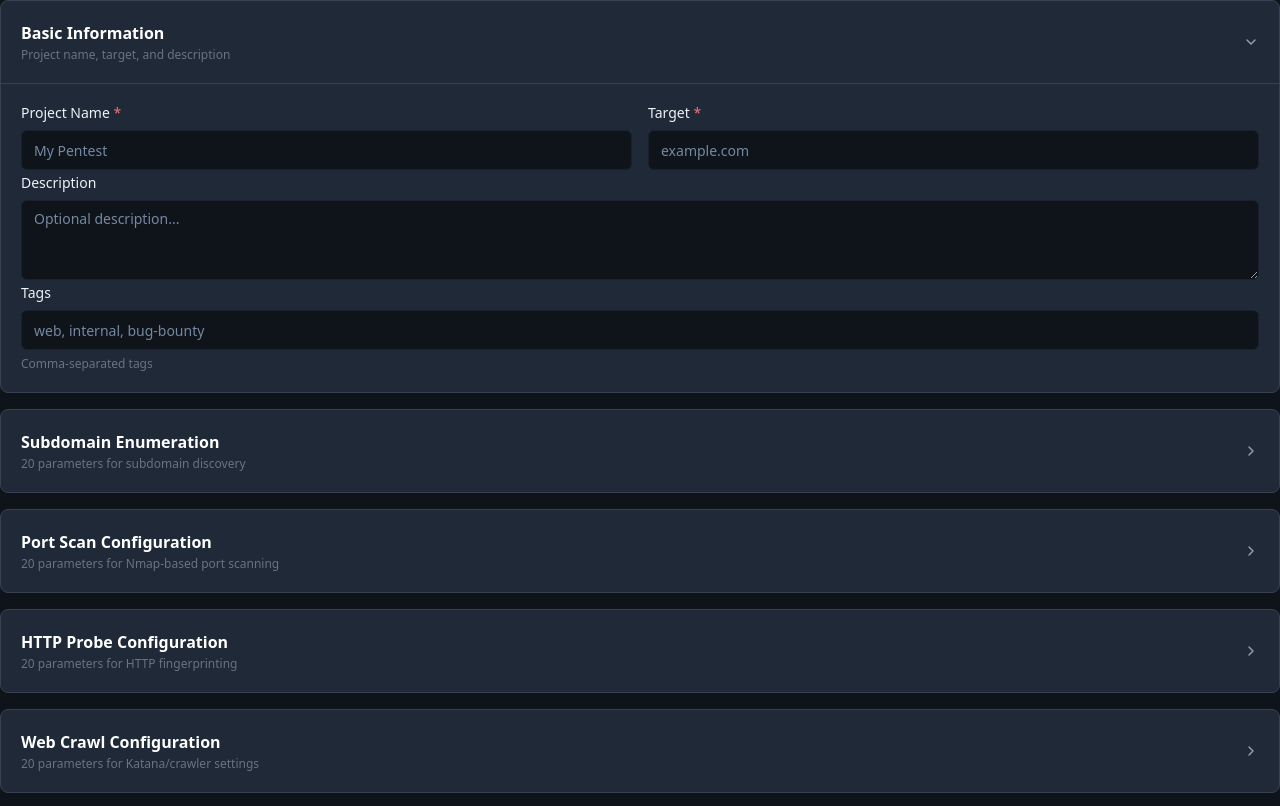
Scenario: AdvancedProjectForm › accordion sections expand on click
Click the button "Subdomain Enumeration 20 parameters for subdomain discovery" at x=120, y=442, box [1, 410, 1279, 492]
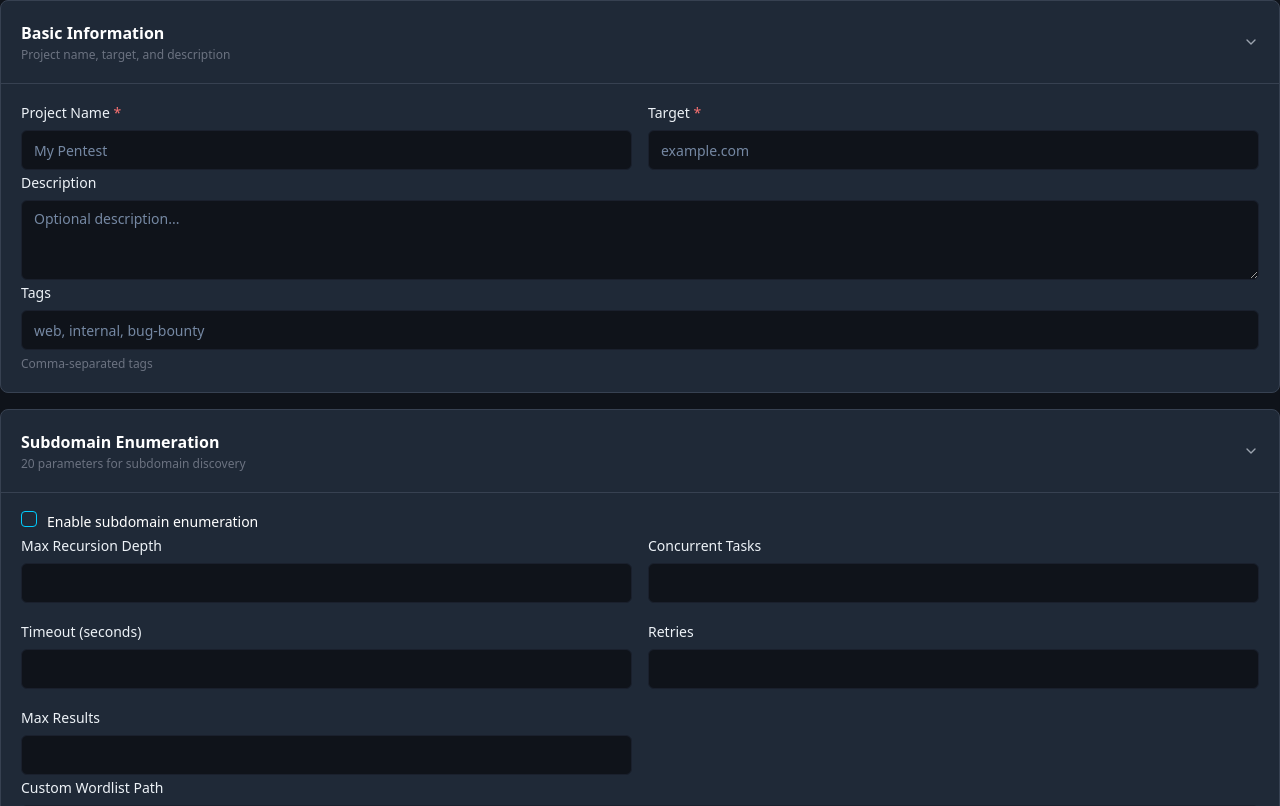
Expected: the checkbox named "enable subdomain enumeration" is shown, [21, 511, 37, 527]
